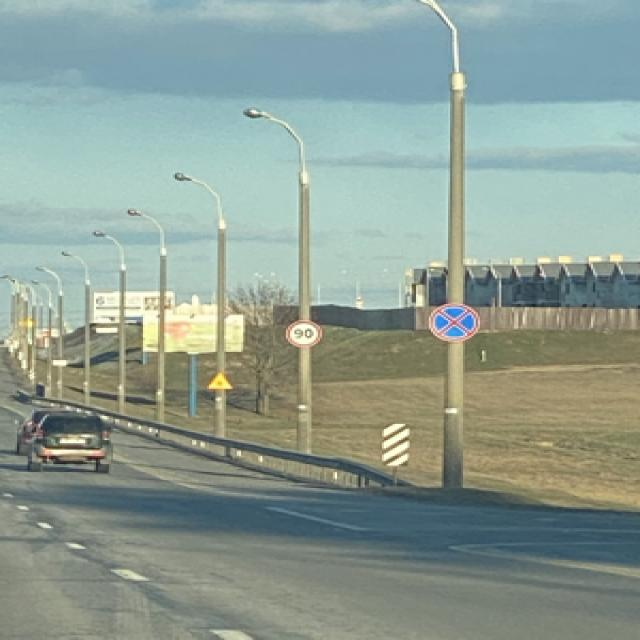speedlimit: (281, 318, 318, 344)
